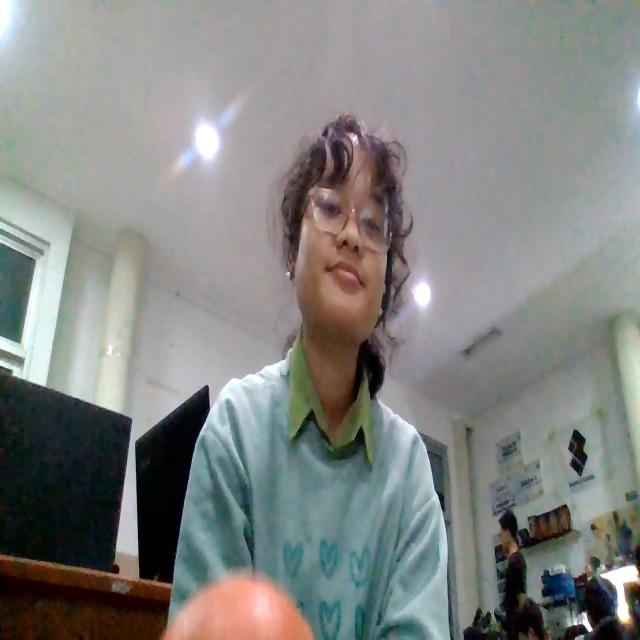ball: (161, 586, 313, 640)
